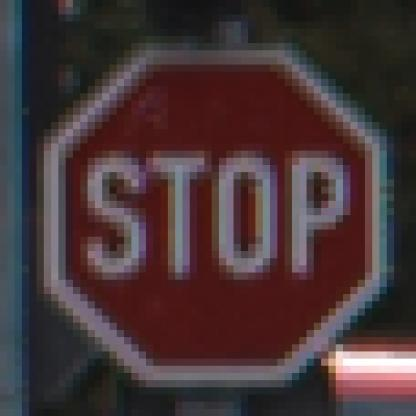Stop: (49, 53, 382, 378)
